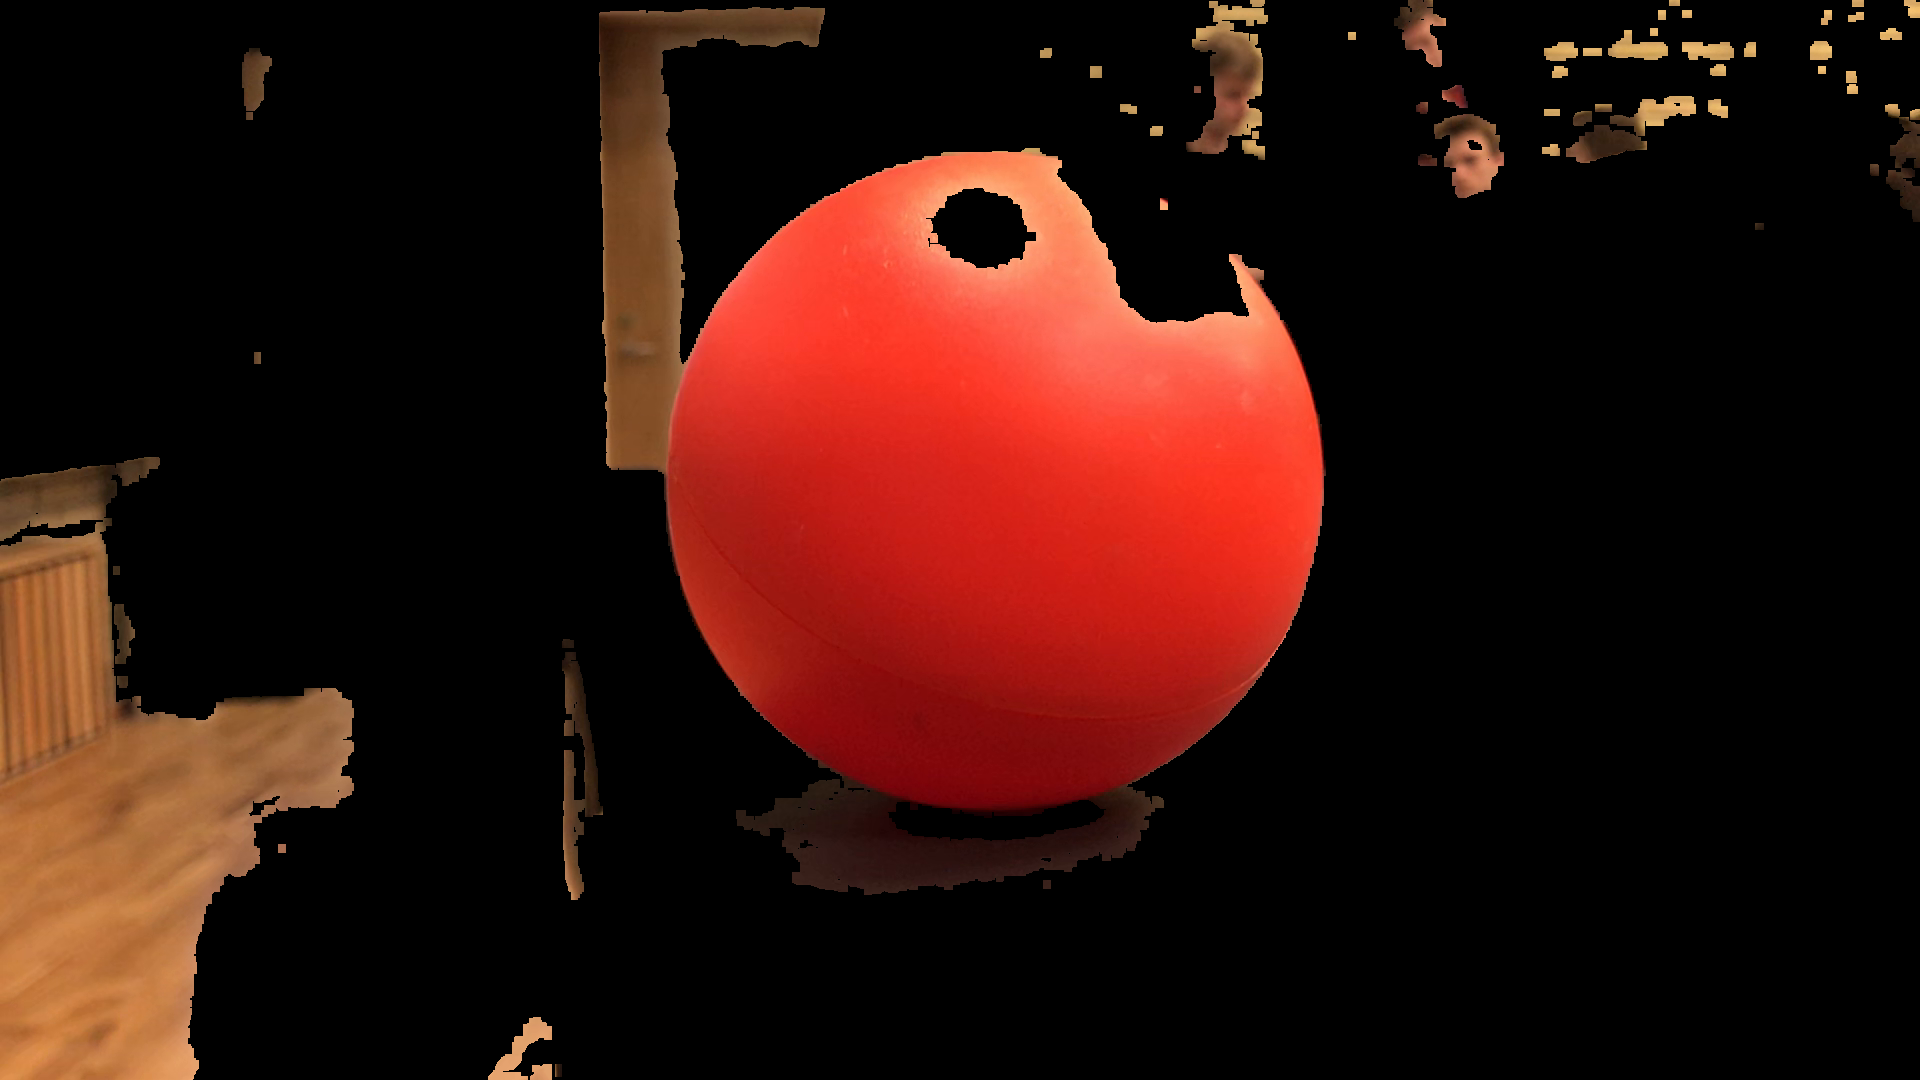Ball: (669, 150, 1327, 815)
